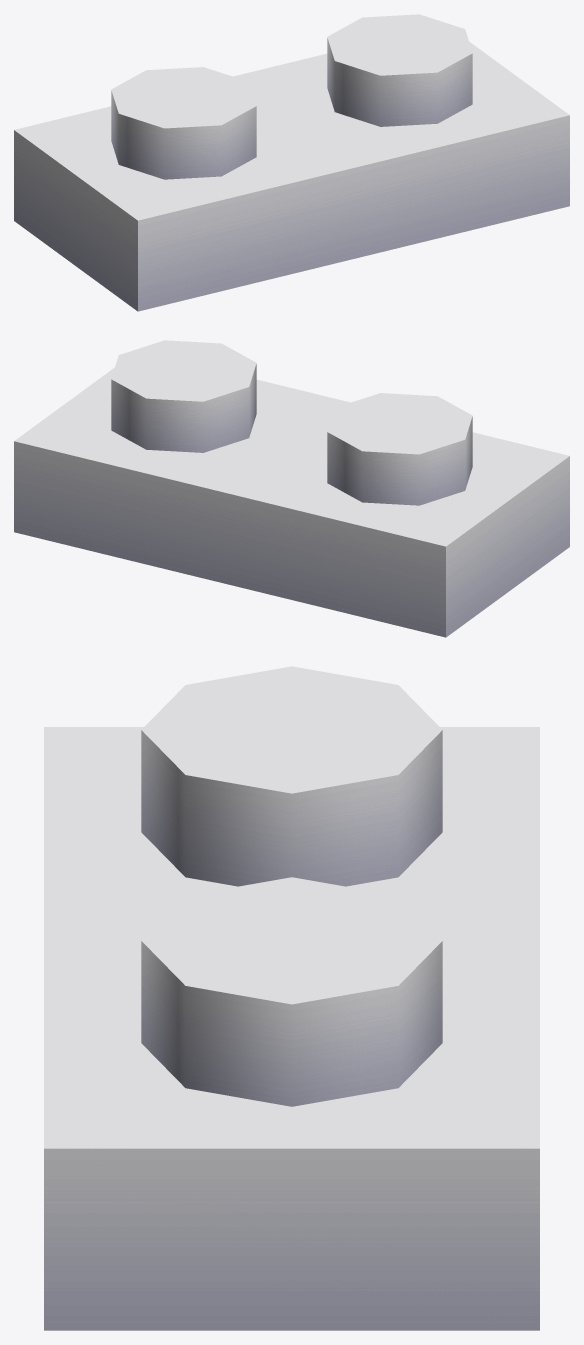
The model's file is round-lq-plate-1x2.glb.
3 renders of one model, top to bottom at view 1: azimuth 30°, elevation 25°; view 2: azimuth 150°, elevation 25°; view 3: azimuth 270°, elevation 25°, orthographic. The views are drawn at different scales.
Visible parts, largest first — view 1: round-lq-plate-1x2; view 2: round-lq-plate-1x2; view 3: round-lq-plate-1x2.
Boxes of the visible parts, x1=… form: round-lq-plate-1x2: x1=14, y1=14, x2=569, y2=311; round-lq-plate-1x2: x1=14, y1=340, x2=569, y2=637; round-lq-plate-1x2: x1=44, y1=666, x2=539, y2=1330.
Size of the model in its own units: 0.795 by 0.25 by 0.395.
Materials: 1 (1 with a texture image).
